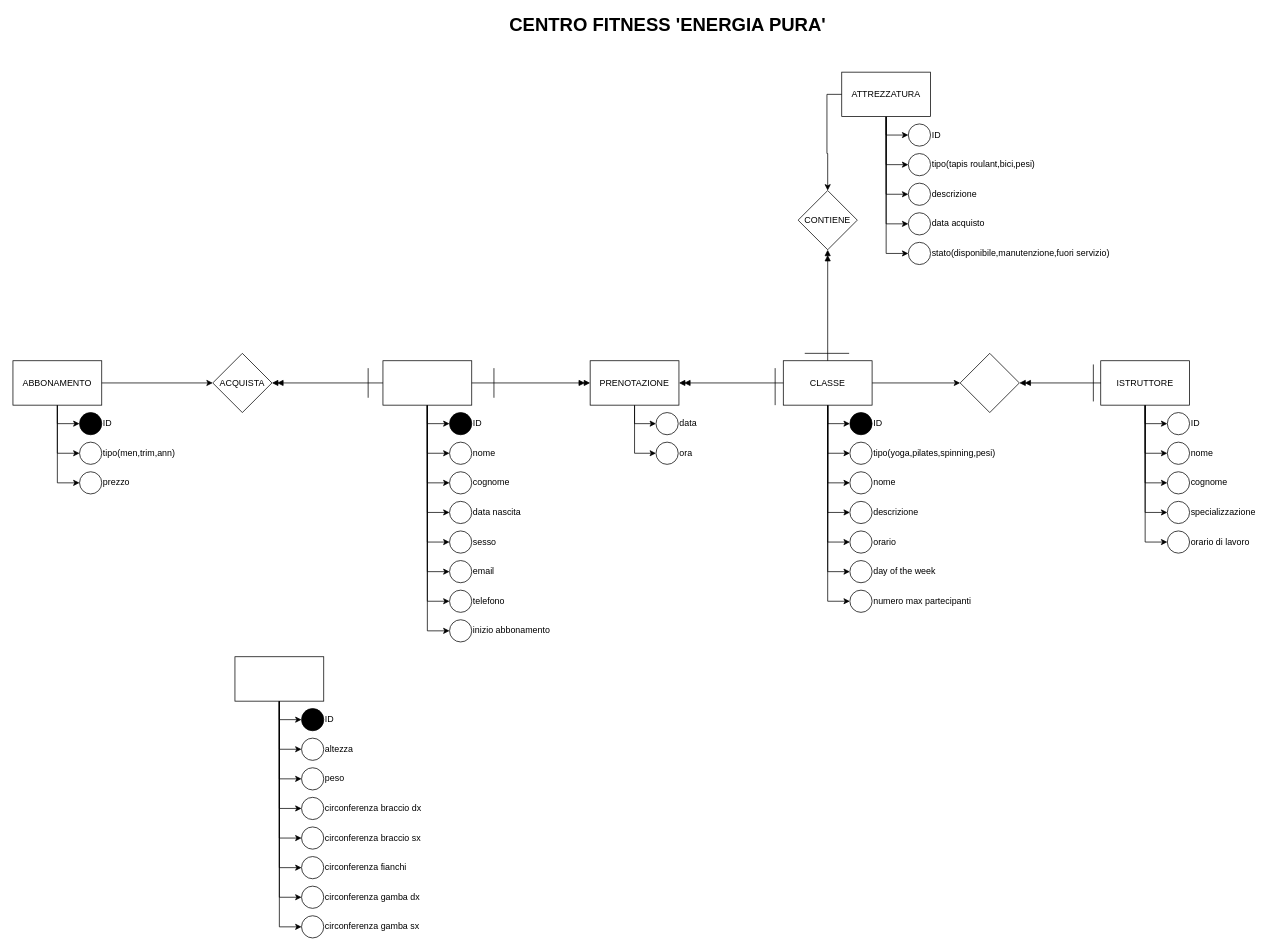
Image size: 1284x951. Some labels were removed from this diagram. The centre of each missing label's shape, as x and y in pixels:
CONDUCE: (989,383)
MEMBRO: (427,382)
SCHEDA PROGRESSO: (279,678)
